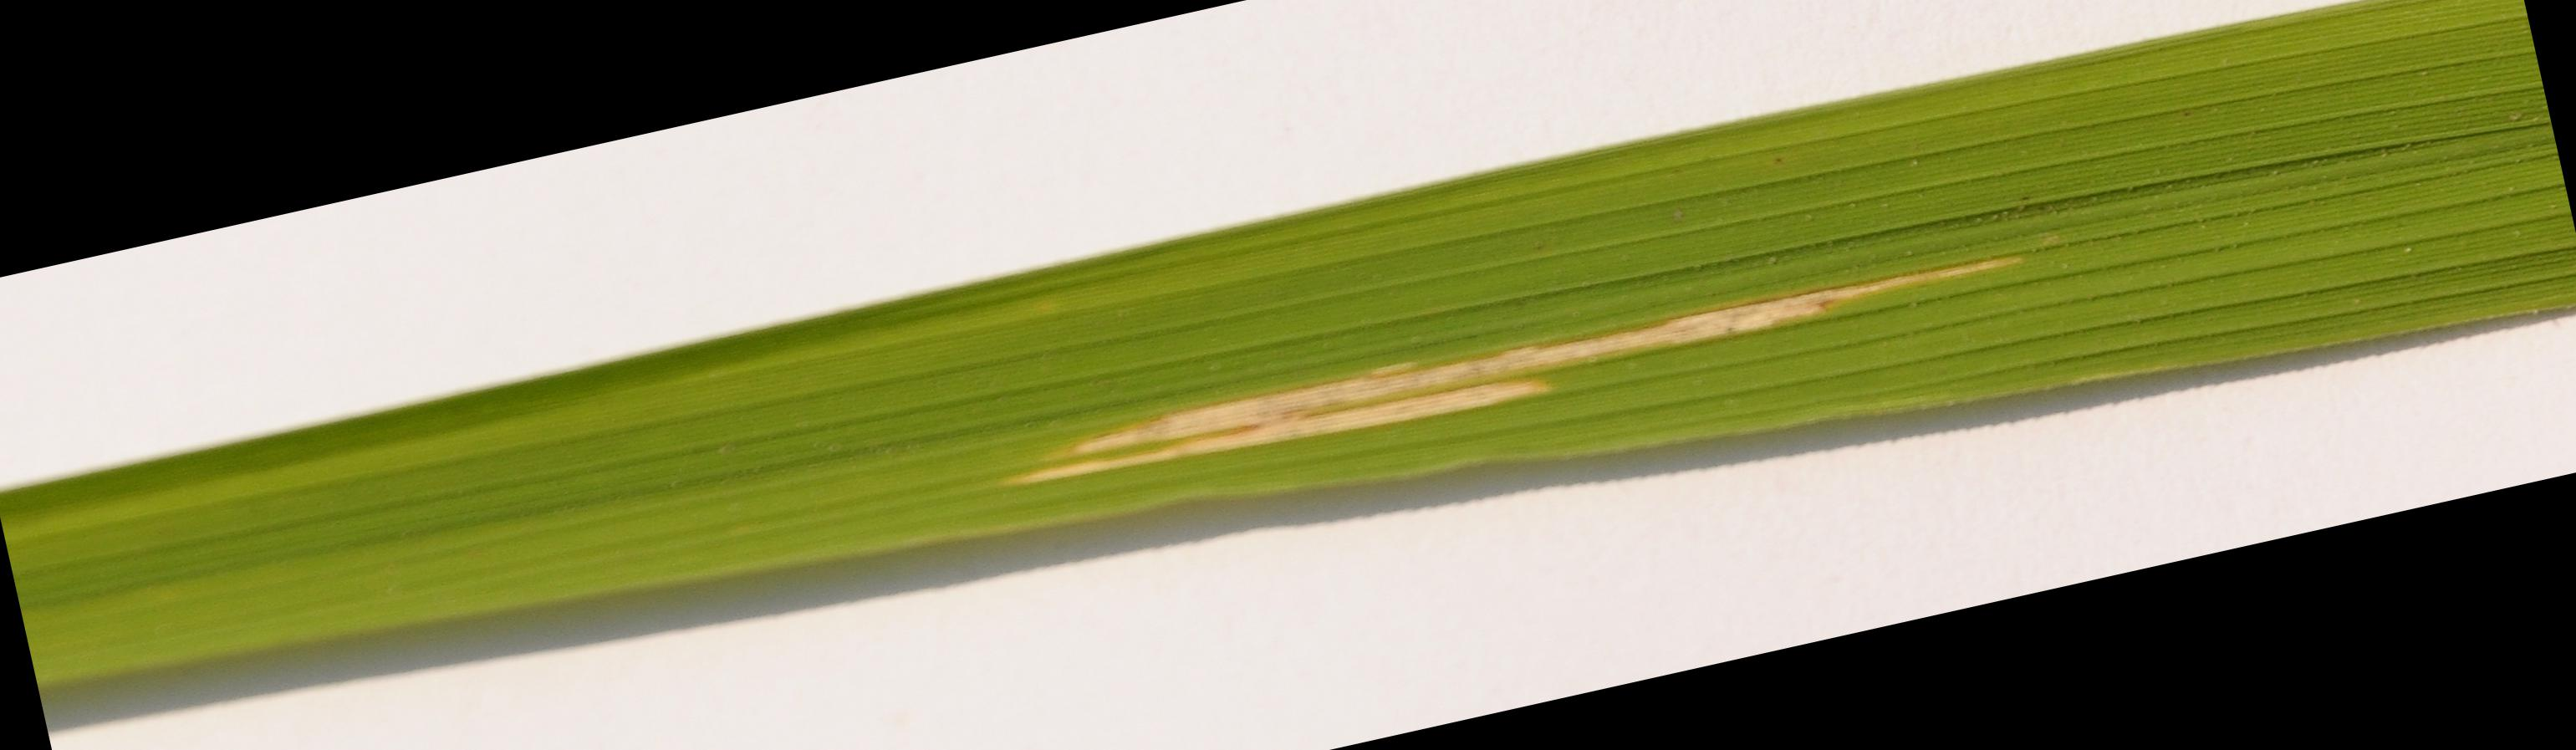bacterial_leaf_blight: (991, 238, 2031, 486)
